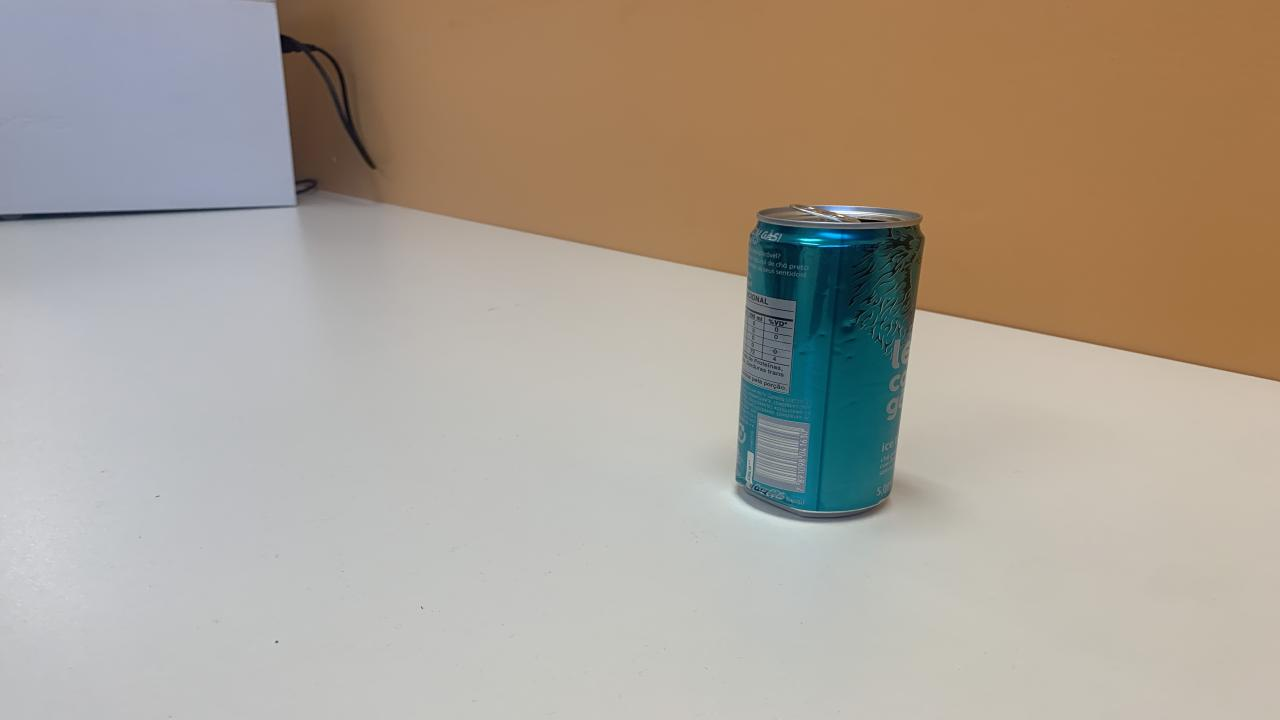Tea-Drinks: (735, 204, 925, 518)
